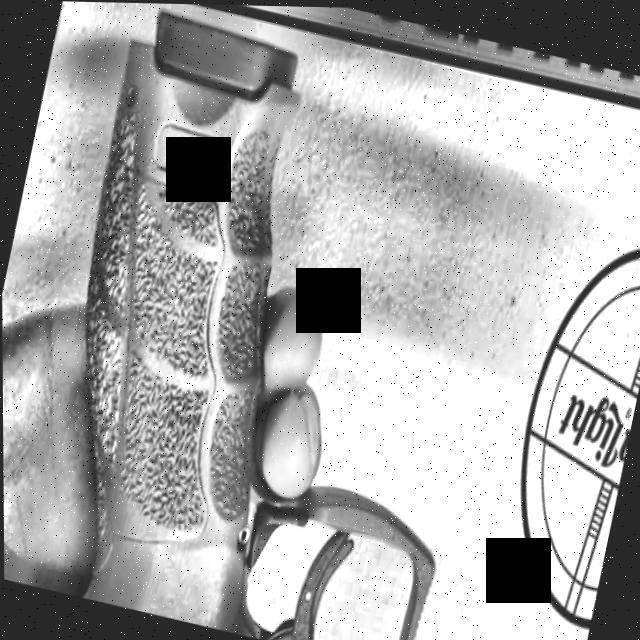Heckler - Koch -H-K-: (81, 11, 432, 640)
